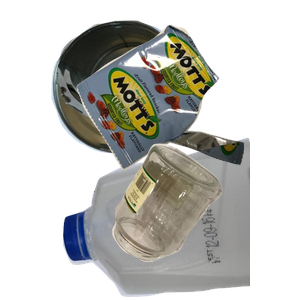glass: (110, 141, 300, 300)
metal: (49, 18, 229, 164)
plastic: (60, 135, 300, 300)
trash: (74, 22, 300, 185)
